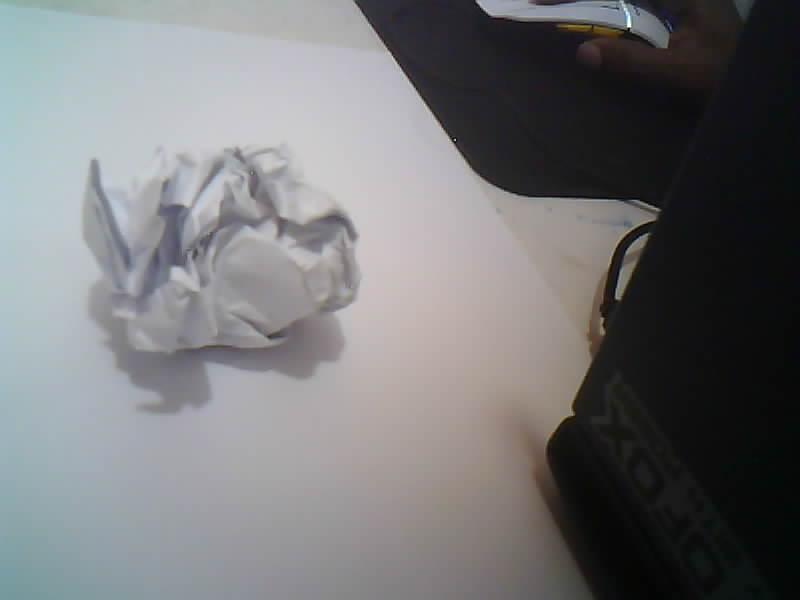biodegradable: (84, 146, 357, 351)
